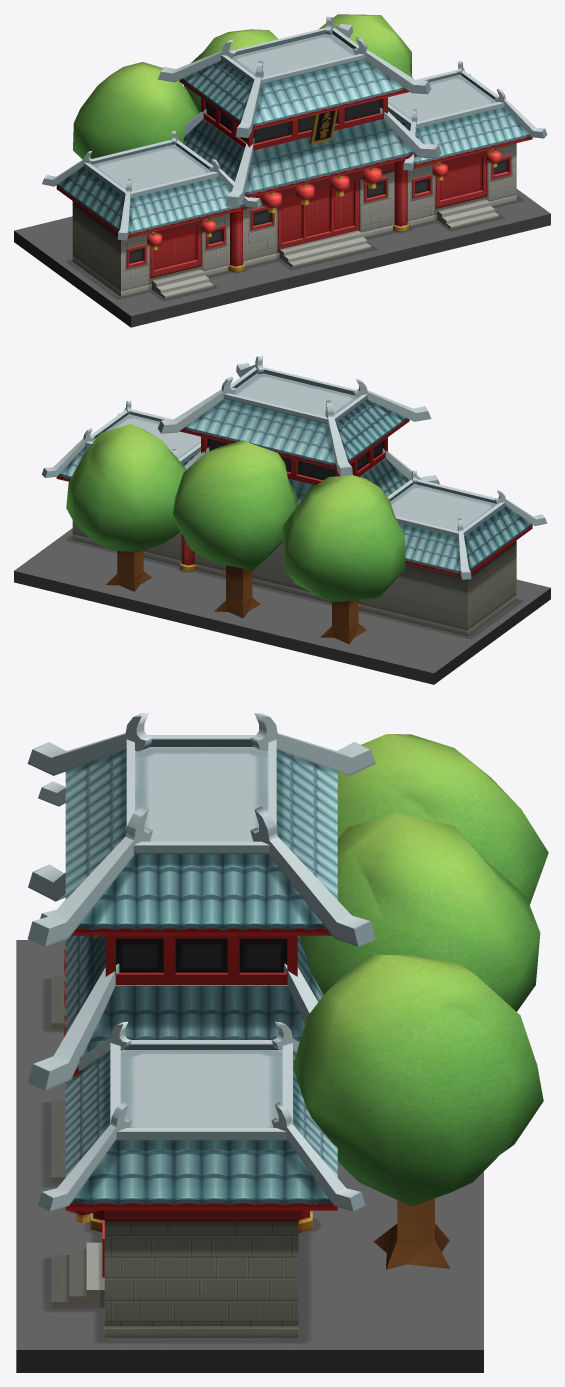
File: tianhougong.FBX
3 renders of one model, top to bottom at view 1: azimuth 30°, elevation 25°; view 2: azimuth 150°, elevation 25°; view 3: azimuth 270°, elevation 25°, orthographic. The views are drawn at different scales.
Parts seen in each view (by area): view 1: tianhougong; view 2: tianhougong; view 3: tianhougong.
Boxes of the visible parts, bbox=[...] form: tianhougong: bbox=[14, 14, 550, 327]; tianhougong: bbox=[14, 356, 550, 684]; tianhougong: bbox=[16, 713, 548, 1372].
Size of the model in its own units: 1652 by 747 by 886.
Materials: 1 (1 with a texture image).
